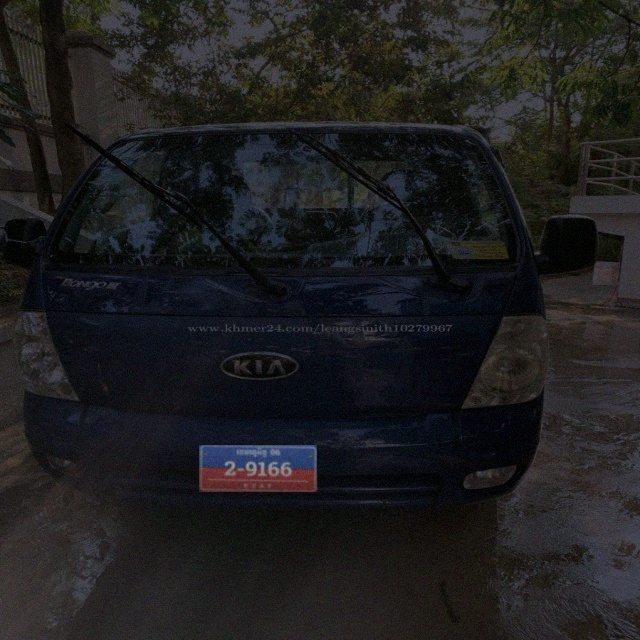Plate Number: (200, 446, 318, 492)
